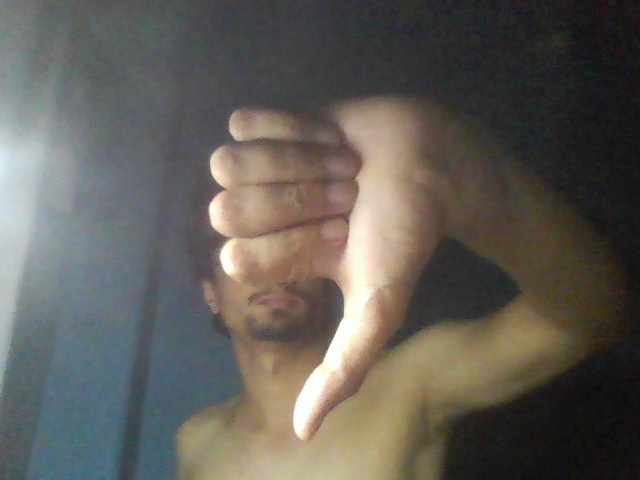ThumbsDown: (206, 83, 461, 442)
